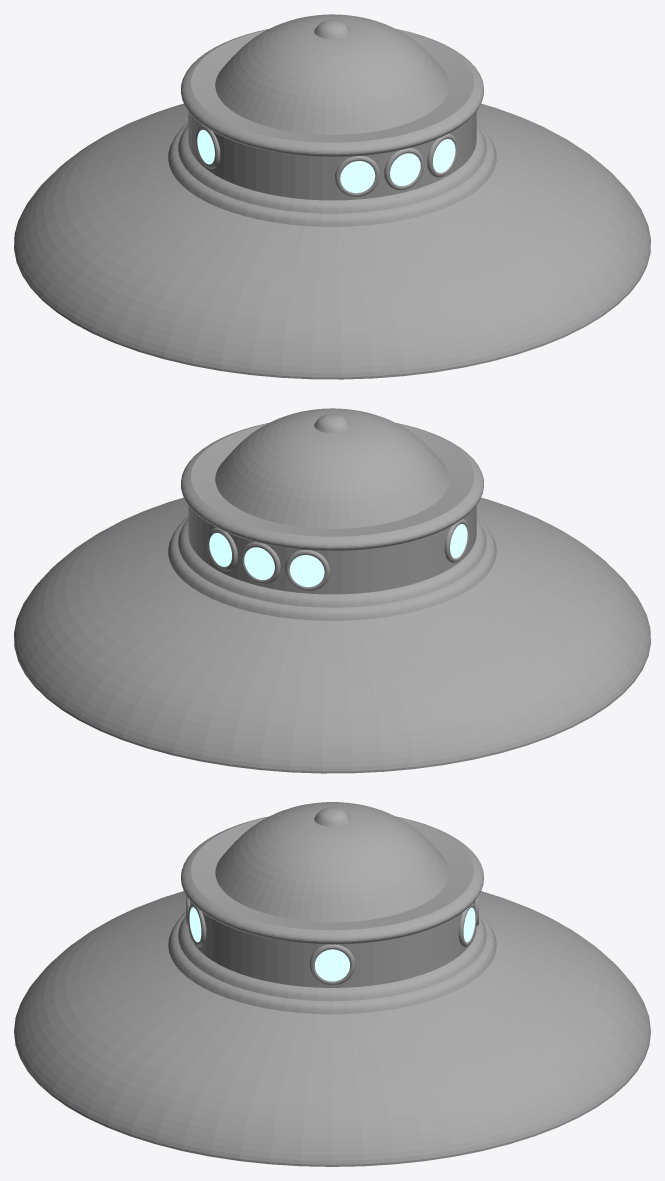
Rendered from Spaceship02-1228.fbx.
3 renders of one model, top to bottom at view 1: azimuth 30°, elevation 25°; view 2: azimuth 150°, elevation 25°; view 3: azimuth 270°, elevation 25°, orthographic.
Visible parts, largest first — view 1: Spaceship, Cylinder.006, Cylinder.004, Torus.005, Torus.003, Cylinder.005; view 2: Spaceship, Cylinder.007, Cylinder.002, Torus.006, Torus.001, Cylinder.008; view 3: Spaceship, Cylinder, Torus.
Boxes of the visible parts, box(x1,y1,x2,y2) form: Spaceship: box(14, 14, 650, 379); Cylinder.006: box(340, 161, 375, 192); Cylinder.004: box(390, 153, 420, 185); Torus.005: box(335, 156, 379, 196); Torus.003: box(384, 148, 424, 190); Cylinder.005: box(433, 139, 455, 172); Spaceship: box(14, 408, 650, 773); Cylinder.007: box(289, 555, 324, 586); Cylinder.002: box(244, 547, 274, 579); Torus.006: box(285, 550, 329, 590); Torus.001: box(240, 542, 280, 584); Cylinder.008: box(209, 533, 231, 566); Spaceship: box(14, 802, 650, 1166); Cylinder: box(315, 949, 349, 981); Torus: box(309, 944, 355, 985).
Bounding box in the file's own units: 646 × 298 × 646.
